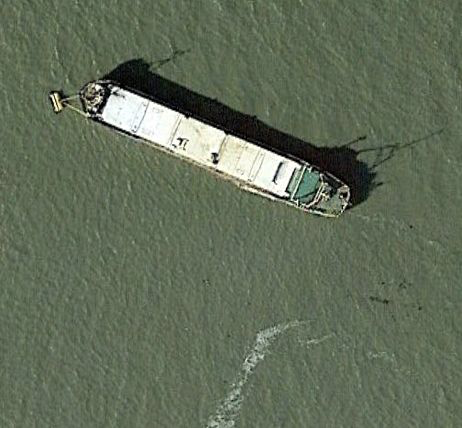boat: (73, 79, 353, 221)
